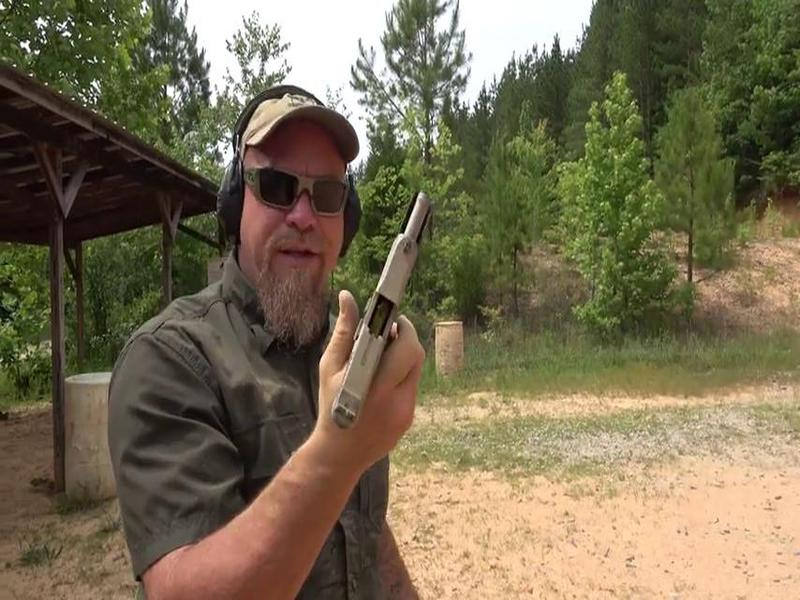Pistola: (298, 176, 482, 439)
